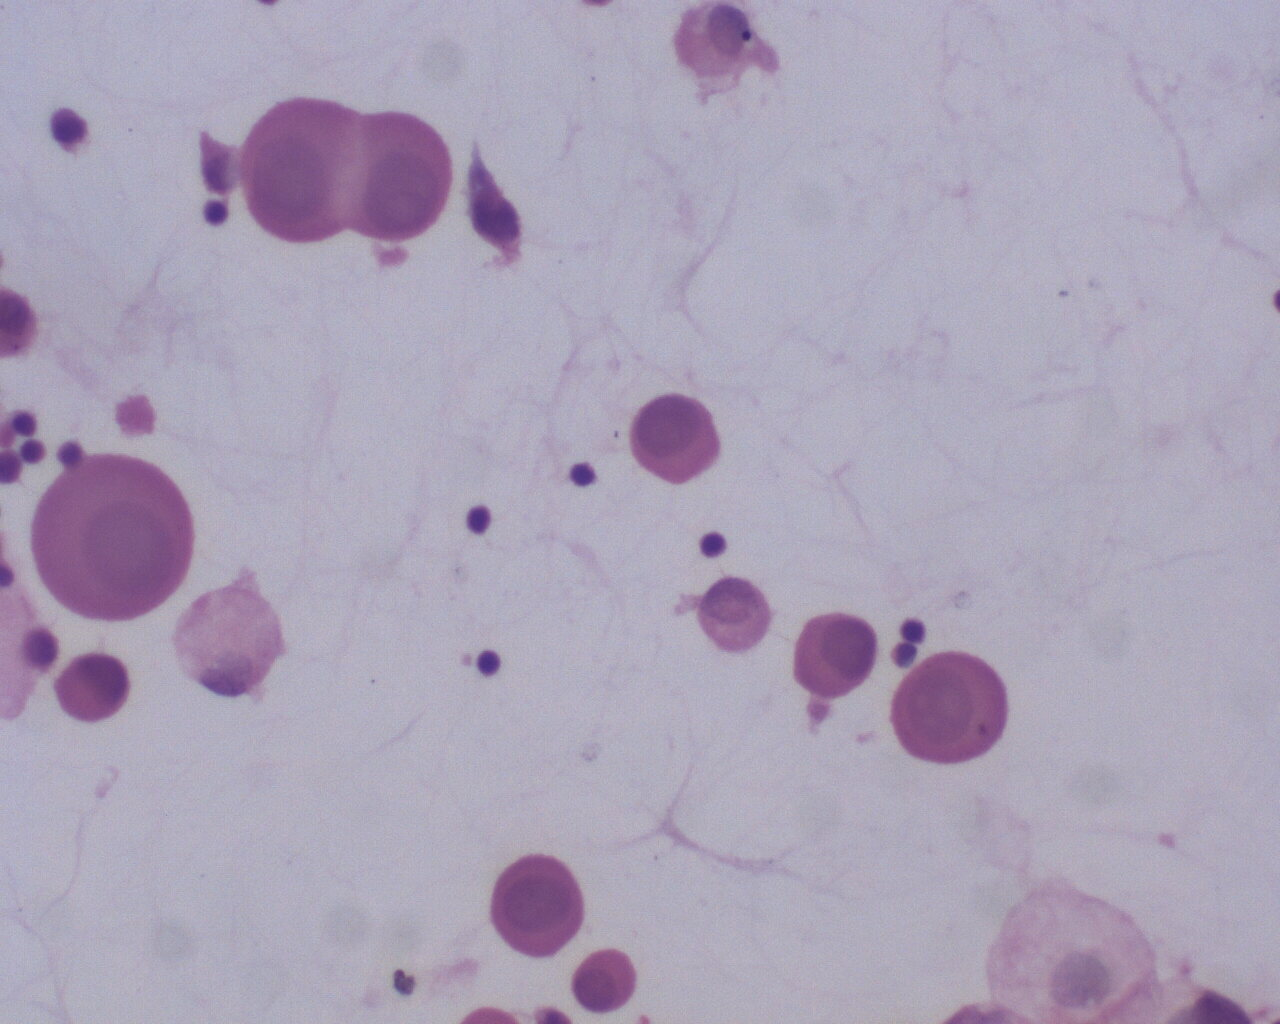ab: (21, 455, 204, 629), (233, 94, 365, 252), (357, 103, 460, 251), (894, 639, 1009, 769), (483, 853, 588, 961), (626, 393, 727, 491), (787, 606, 885, 698), (54, 652, 131, 723)
histo: (177, 583, 290, 702)
lymph: (461, 644, 509, 681), (460, 495, 496, 537)
